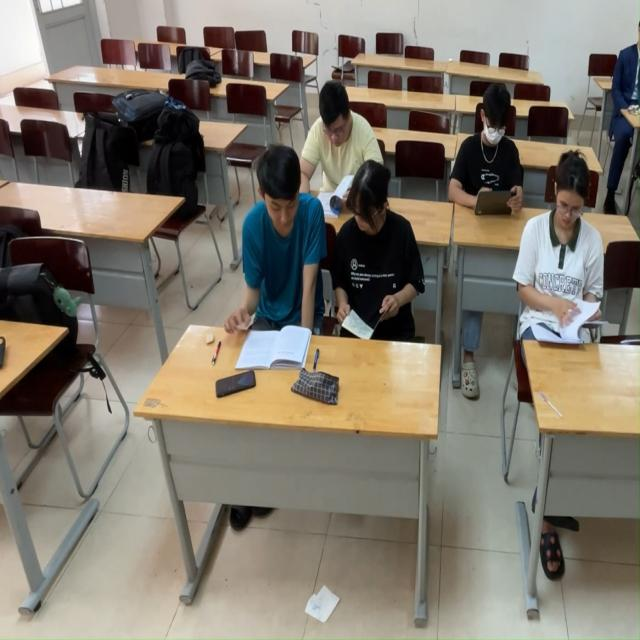read: (508, 142, 623, 382), (245, 137, 332, 382), (327, 159, 428, 364), (447, 89, 520, 233), (303, 89, 362, 223)
